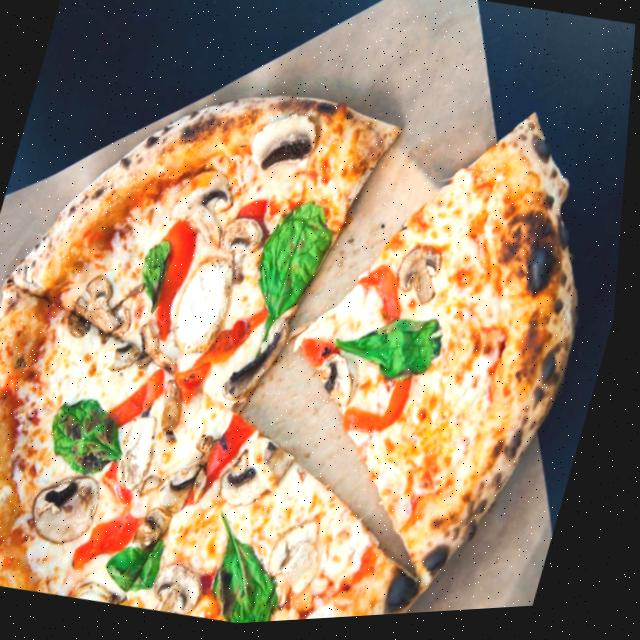basil: (247, 196, 345, 344), (194, 512, 304, 629), (335, 302, 455, 392), (43, 389, 144, 483), (105, 531, 177, 598), (136, 237, 179, 318)
mushrooms: (136, 427, 226, 560), (224, 300, 305, 410), (31, 465, 116, 553), (220, 434, 306, 518), (163, 166, 245, 250), (67, 269, 147, 350), (247, 107, 327, 185), (274, 519, 337, 596), (215, 209, 272, 289), (115, 407, 168, 492), (392, 243, 455, 313), (156, 559, 217, 621), (111, 320, 170, 380), (318, 353, 367, 416), (156, 380, 193, 451), (78, 579, 144, 611), (151, 344, 188, 385), (143, 468, 174, 499)
pizza: (0, 17, 637, 640)
